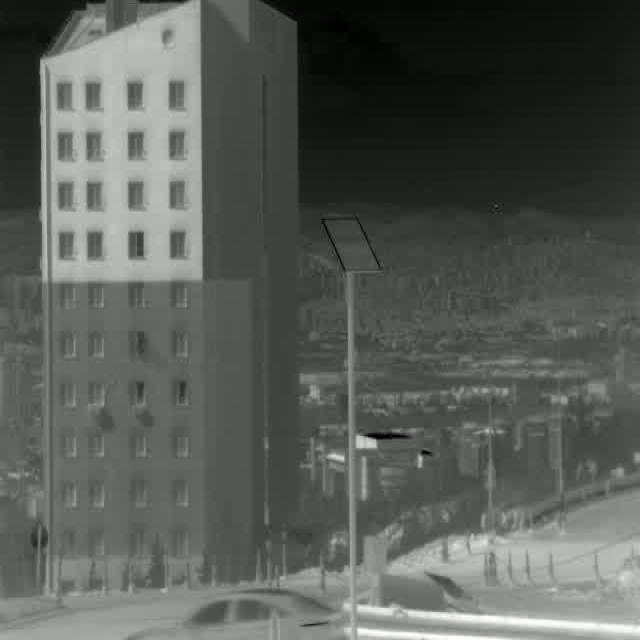Car: (123, 589, 346, 640), (556, 492, 571, 531)
